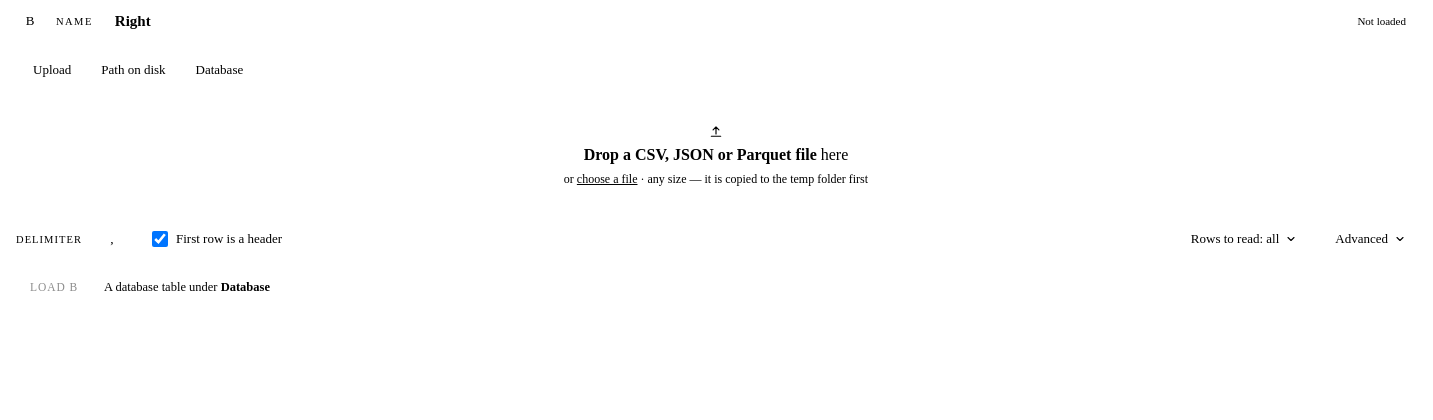
Test case: Same SQL as A copies A's connection, SQL and cap to B
The image size is (1433, 420).
Step 1. Click the radio button labelled "Database" → click(219, 70), box [196,62,243,77]
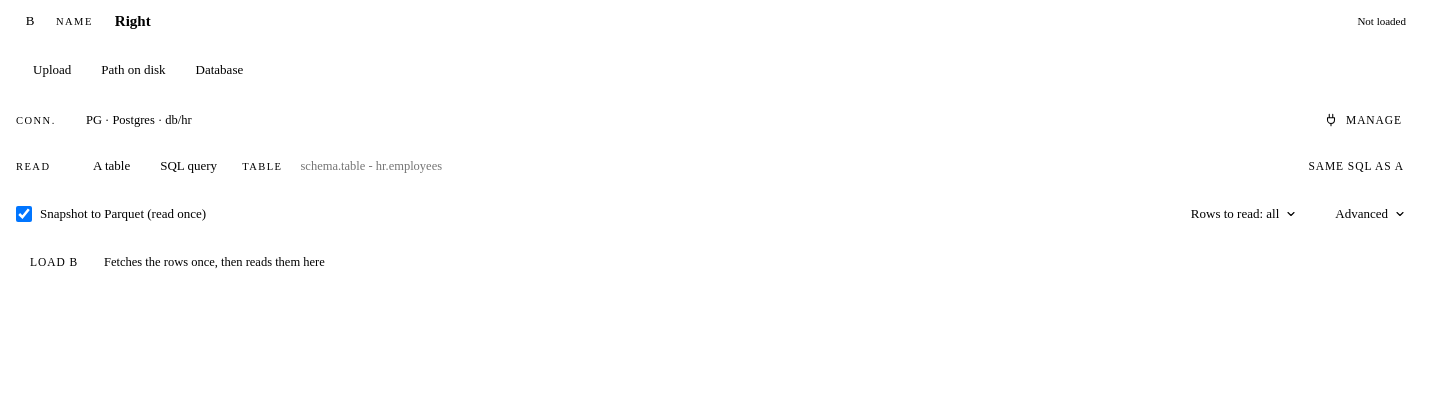
Step 2. Click the button "Same SQL as A" → click(1356, 166), box [1296,150,1416,182]
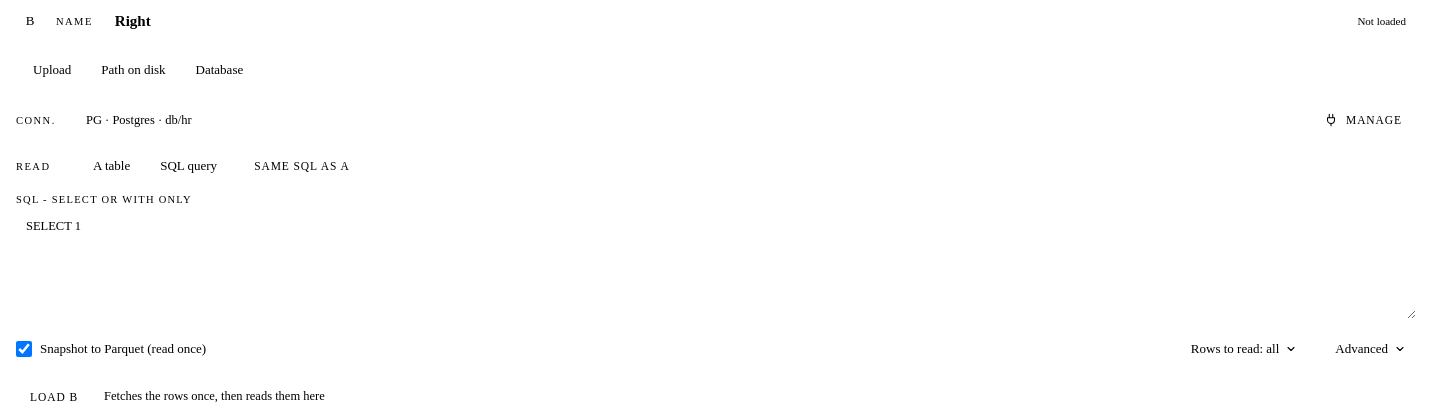
expect the text box labelled "SQL" holds "SELECT 1": met, box [16,209,1416,319]
